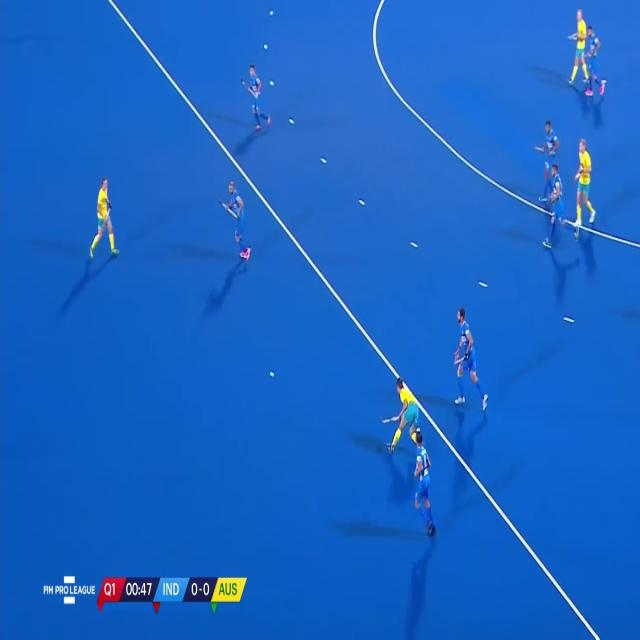ball: (264, 367, 277, 383)
